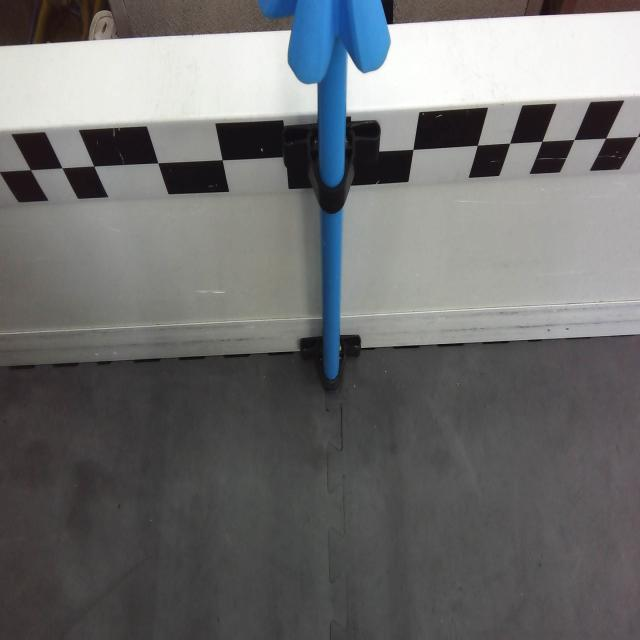zblue-Stake-Head: (261, 0, 393, 85)
